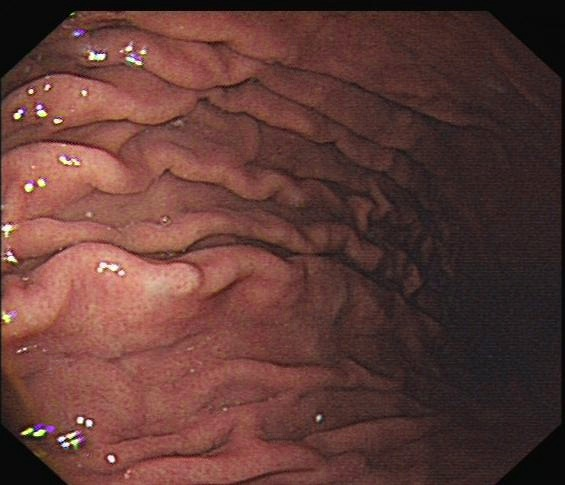Polyp: (151, 243, 206, 315)
